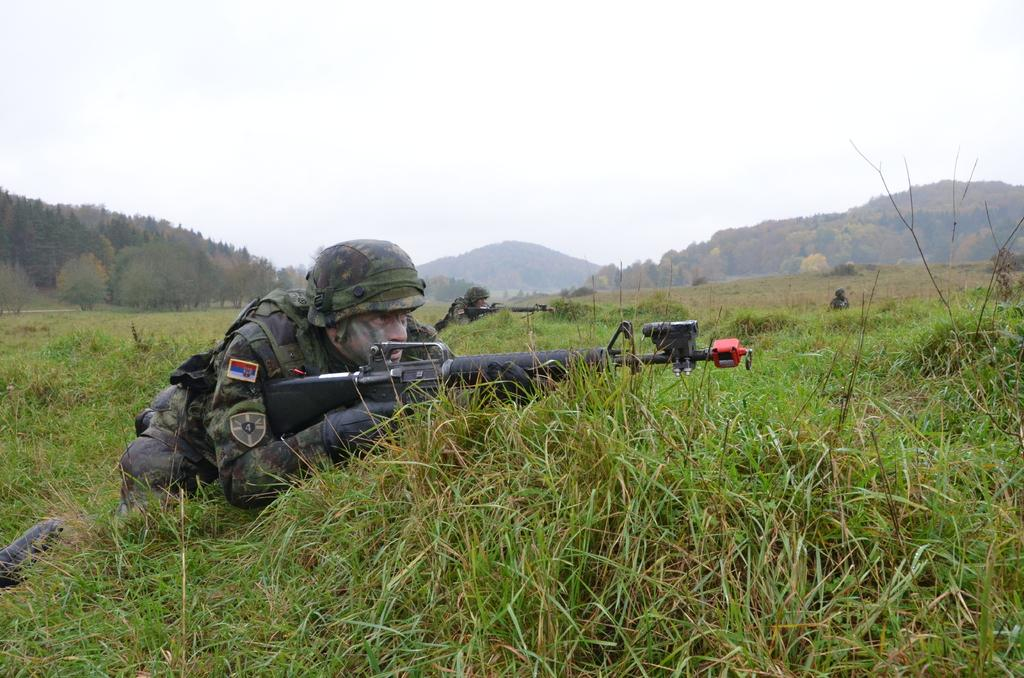Rifle: (265, 315, 753, 439), (464, 302, 556, 319)
